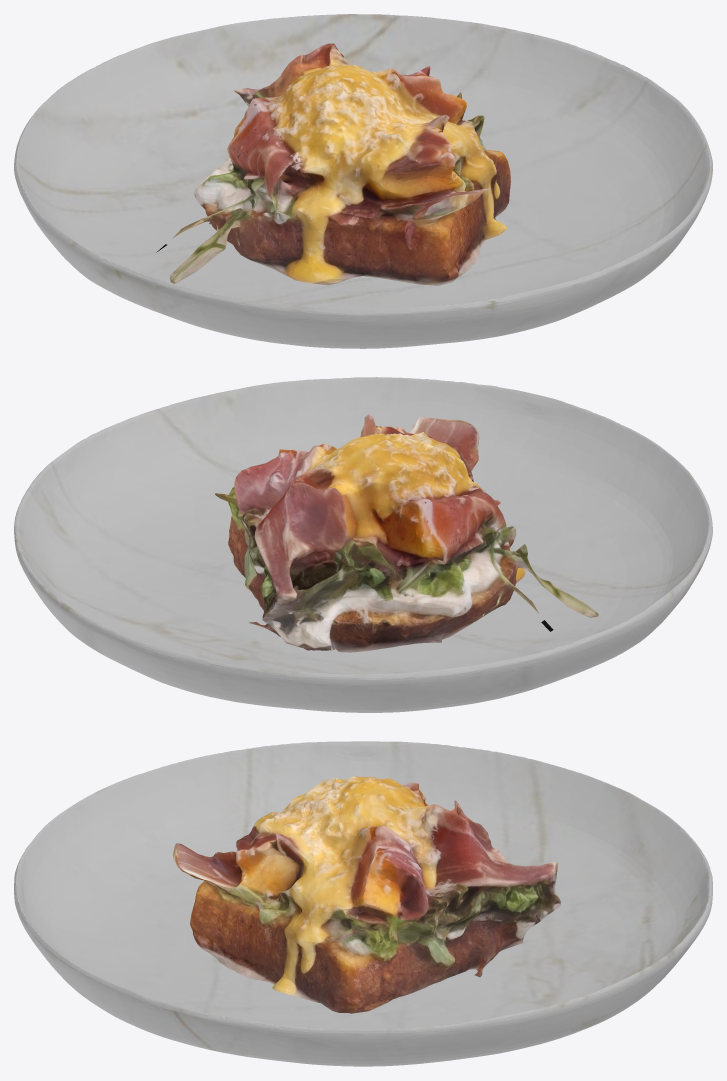
File: tost.jambon.set.glb
3 renders of one model, top to bottom at view 1: azimuth 30°, elevation 25°; view 2: azimuth 150°, elevation 25°; view 3: azimuth 270°, elevation 25°, orthographic.
Parts seen in each view (by area): view 1: world, object 1; view 2: world, object 1; view 3: world, object 1.
Part boxes in pixels (left/top/right/bottom): world: left=14, top=14, right=712, bottom=348; object 1: left=156, top=43, right=510, bottom=285; world: left=14, top=377, right=712, bottom=712; object 1: left=215, top=414, right=598, bottom=652; world: left=14, top=741, right=712, bottom=1066; object 1: left=173, top=776, right=560, bottom=1013.
Bounding box in the file's own units: 0.3006 × 0.0819 × 0.3065.
2 materials, 2 textured.
